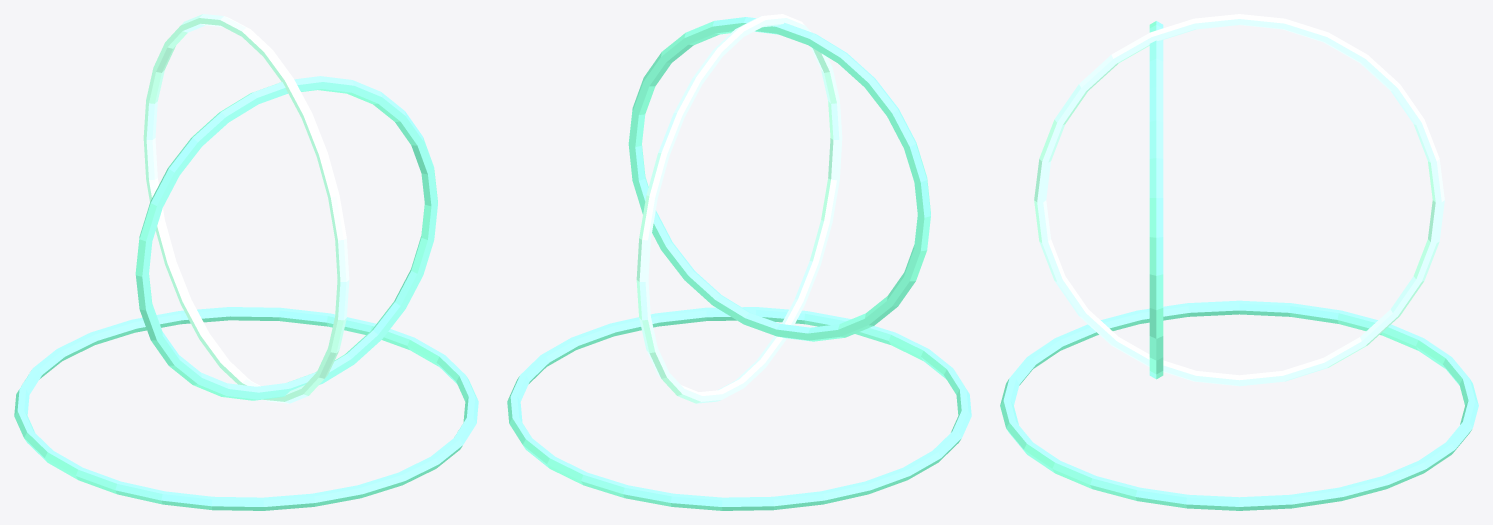
Rendered from vfx_guard_ripple_a.glb.
The picture shows the model from 3 angles, left to right: view 1: azimuth 30°, elevation 25°; view 2: azimuth 150°, elevation 25°; view 3: azimuth 270°, elevation 25°; orthographic projection. The views are drawn at different scales.
Visible parts, largest first — view 1: guard_ripple_ground, guard_ripple_front, guard_ripple_side; view 2: guard_ripple_ground, guard_ripple_front, guard_ripple_side; view 3: guard_ripple_ground, guard_ripple_side, guard_ripple_front.
Boxes of the visible parts, bbox=[...] form: guard_ripple_ground: bbox=[14, 307, 478, 510]; guard_ripple_front: bbox=[135, 76, 437, 400]; guard_ripple_side: bbox=[143, 14, 349, 403]; guard_ripple_ground: bbox=[507, 307, 971, 510]; guard_ripple_front: bbox=[628, 17, 930, 341]; guard_ripple_side: bbox=[636, 14, 842, 403]; guard_ripple_ground: bbox=[1000, 300, 1478, 510]; guard_ripple_side: bbox=[1034, 14, 1444, 386]; guard_ripple_front: bbox=[1149, 21, 1163, 379].
Size of the model in its own units: 1.73 by 1.58 by 1.73.
